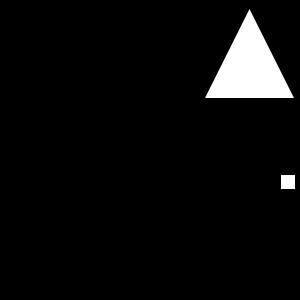circle: (281, 175, 295, 189)
triangle: (205, 9, 294, 98)
